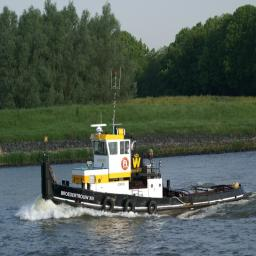tugboat: (39, 65, 255, 227)
